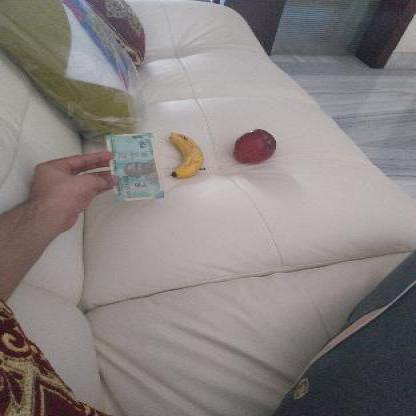New50Front: (109, 131, 160, 202)
